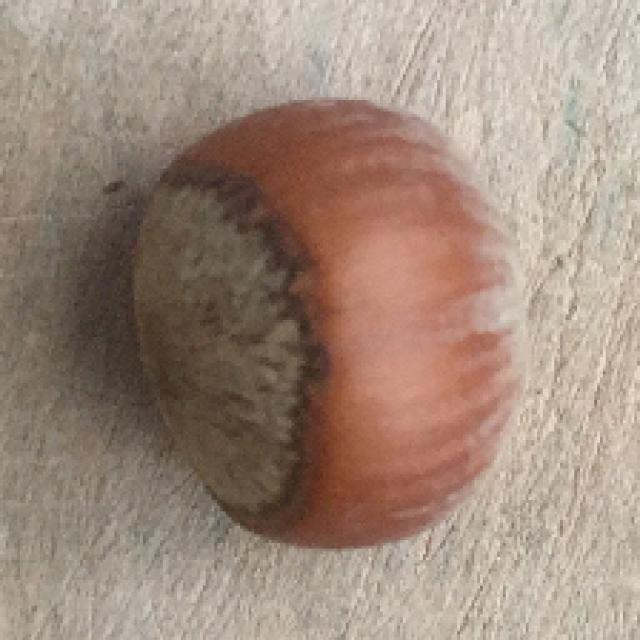qualityHazelnut: (133, 96, 527, 550)
